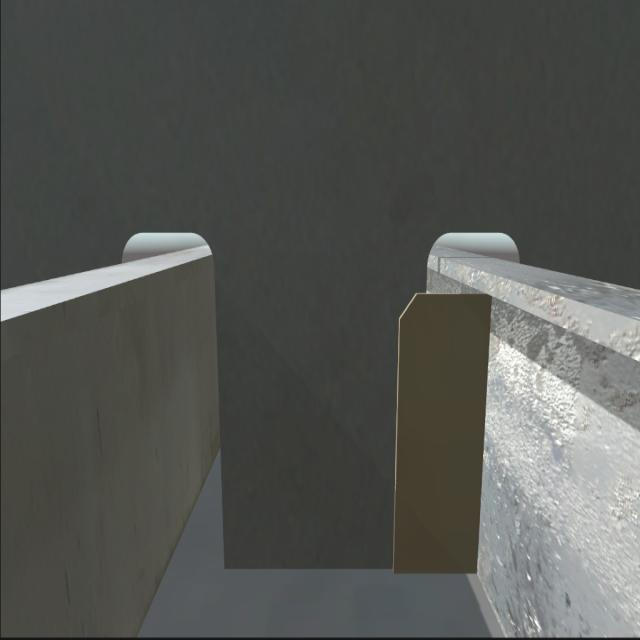fillet_yong_jeop_jang: (220, 559, 480, 586)
longi_yong_jeop_jang: (475, 292, 493, 578)
plate_CP03: (392, 294, 480, 570)
